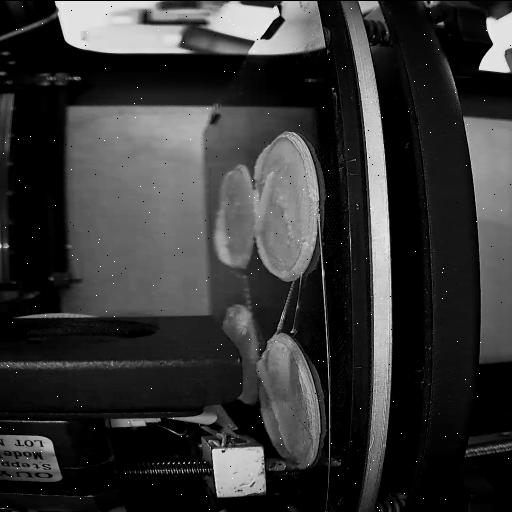over_extrusion: (254, 356, 294, 450), (254, 235, 306, 278), (254, 142, 278, 232), (213, 208, 244, 268)
